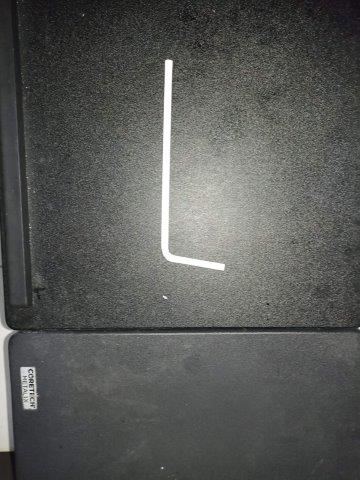sedotan: (161, 60, 225, 271)
